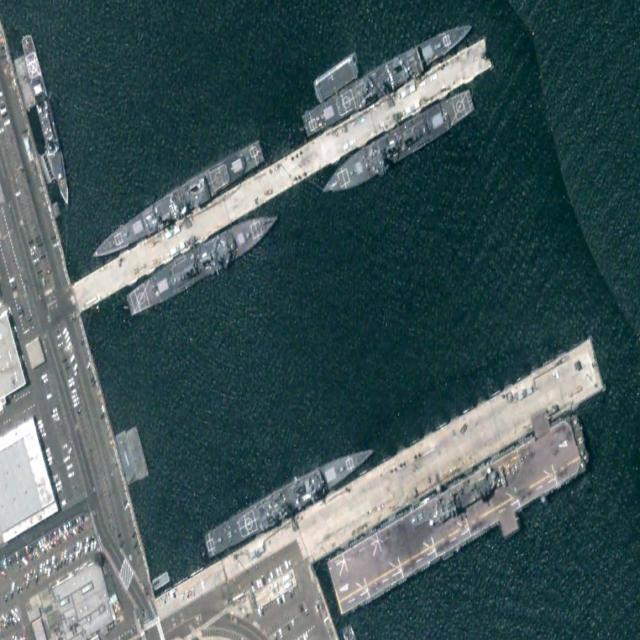Cruiser: (89, 133, 266, 271), (300, 13, 474, 142), (203, 435, 379, 561)
Destroyer: (319, 84, 478, 207), (124, 199, 281, 320)
Landing: (324, 403, 600, 629)
Other Ship: (19, 30, 74, 211)
